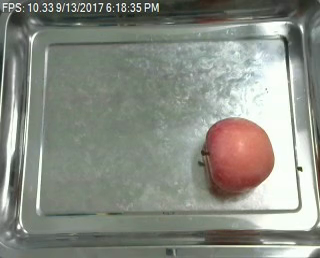Apple: (207, 119, 272, 192)
